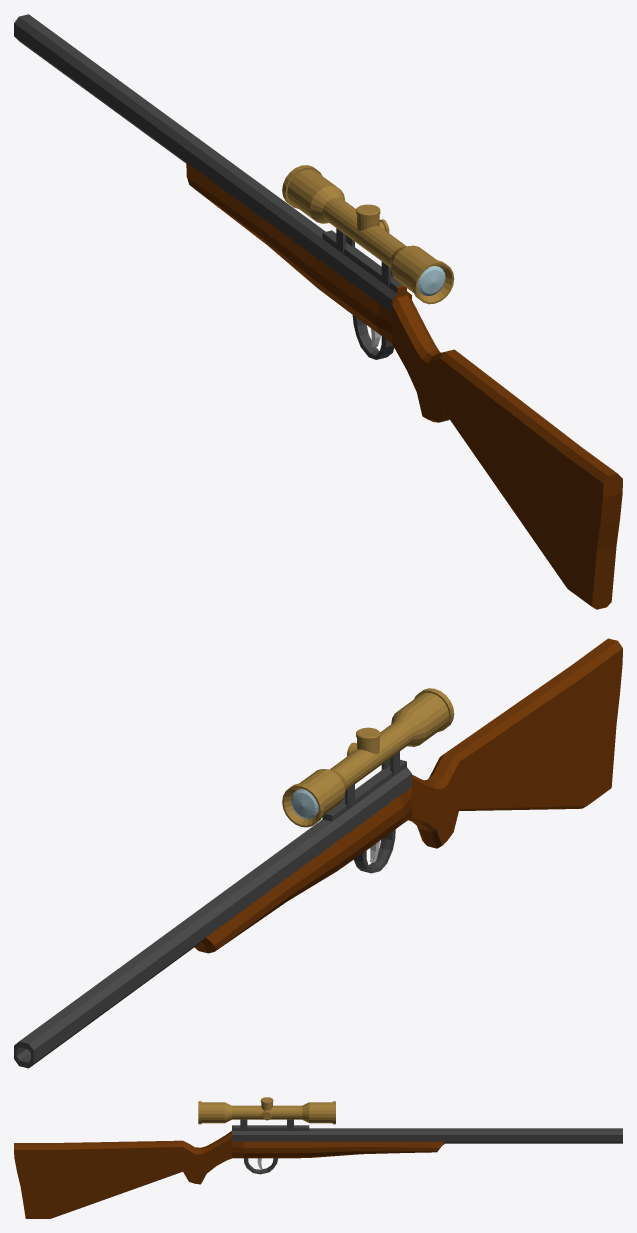
The model's file is Sniper.fbx.
3 views of the same model, one above another, from view 1: azimuth 30°, elevation 25°; view 2: azimuth 150°, elevation 25°; view 3: azimuth 270°, elevation 25° (orthographic). The views are drawn at different scales.
Parts seen in each view (by area): view 1: Gun Sniper; view 2: Gun Sniper; view 3: Gun Sniper.
Part boxes in pixels (x1,y1,x2,y2): Gun Sniper: [14, 14, 622, 609]; Gun Sniper: [14, 638, 622, 1068]; Gun Sniper: [14, 1097, 622, 1218].
Size of the model in its own units: 25.74 by 145 by 678.
